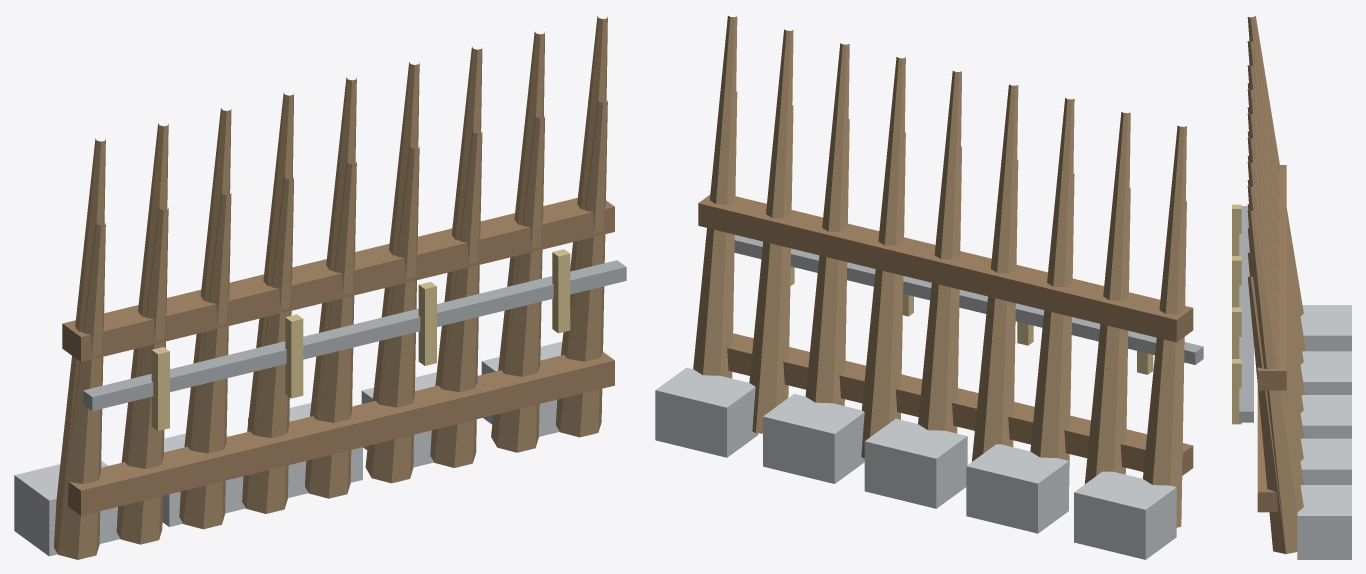
Rendered from empalizada.glb.
3 views of the same model, side by side, from view 1: azimuth 30°, elevation 25°; view 2: azimuth 150°, elevation 25°; view 3: azimuth 270°, elevation 25° (orthographic). The views are drawn at different scales.
Visible parts, largest first — view 1: nivel_1_madera, nivel_2_madera, nivel_3_hierro, nivel_2_sillares; view 2: nivel_2_madera, nivel_2_sillares, nivel_1_madera, nivel_3_hierro; view 3: nivel_2_madera, nivel_2_sillares, nivel_1_madera, nivel_3_hierro.
Boxes of the visible parts, x1,y1,x2,y2 form: nivel_1_madera: [55, 100, 614, 559]; nivel_2_madera: [54, 16, 607, 559]; nivel_3_hierro: [83, 249, 626, 430]; nivel_2_sillares: [14, 341, 562, 556]; nivel_2_madera: [693, 16, 1186, 527]; nivel_2_sillares: [655, 367, 1176, 559]; nivel_1_madera: [698, 91, 1193, 518]; nivel_3_hierro: [734, 235, 1203, 374]; nivel_2_madera: [1247, 15, 1305, 553]; nivel_2_sillares: [1297, 305, 1351, 559]; nivel_1_madera: [1247, 83, 1296, 553]; nivel_3_hierro: [1232, 204, 1253, 424].
Bounding box in the file's own units: 4.1 × 3.1 × 0.985.
